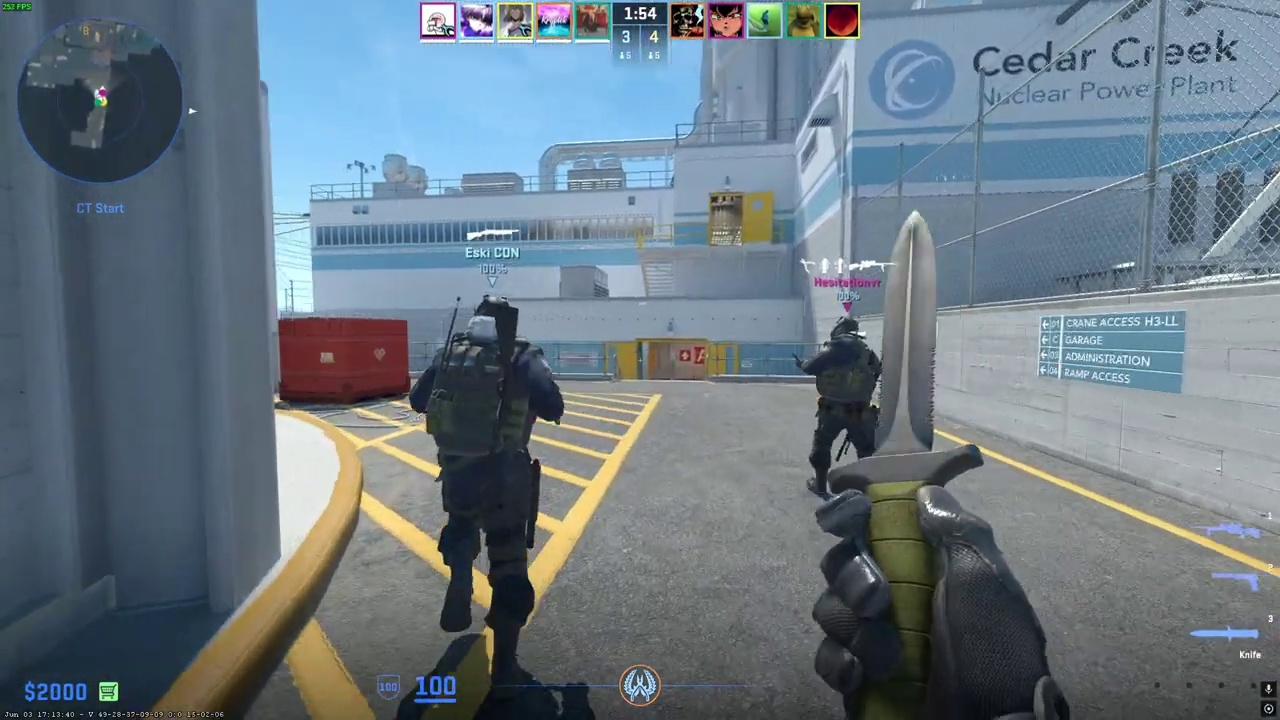CT: (420, 294, 562, 660), (801, 316, 884, 499)
